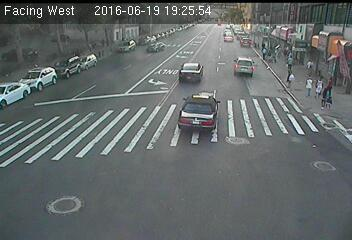neg: (48, 108, 78, 148), (132, 154, 156, 186), (188, 127, 209, 155), (237, 149, 256, 174), (288, 163, 306, 188), (219, 194, 237, 218), (271, 117, 288, 139), (323, 36, 339, 58), (72, 80, 88, 101), (105, 63, 120, 83), (184, 54, 199, 73), (228, 41, 242, 60), (140, 49, 154, 68), (164, 35, 176, 51), (101, 144, 112, 159), (250, 22, 261, 36)
pos: (323, 76, 343, 101), (302, 76, 318, 98), (315, 76, 330, 96), (285, 53, 298, 70), (285, 70, 297, 86)
